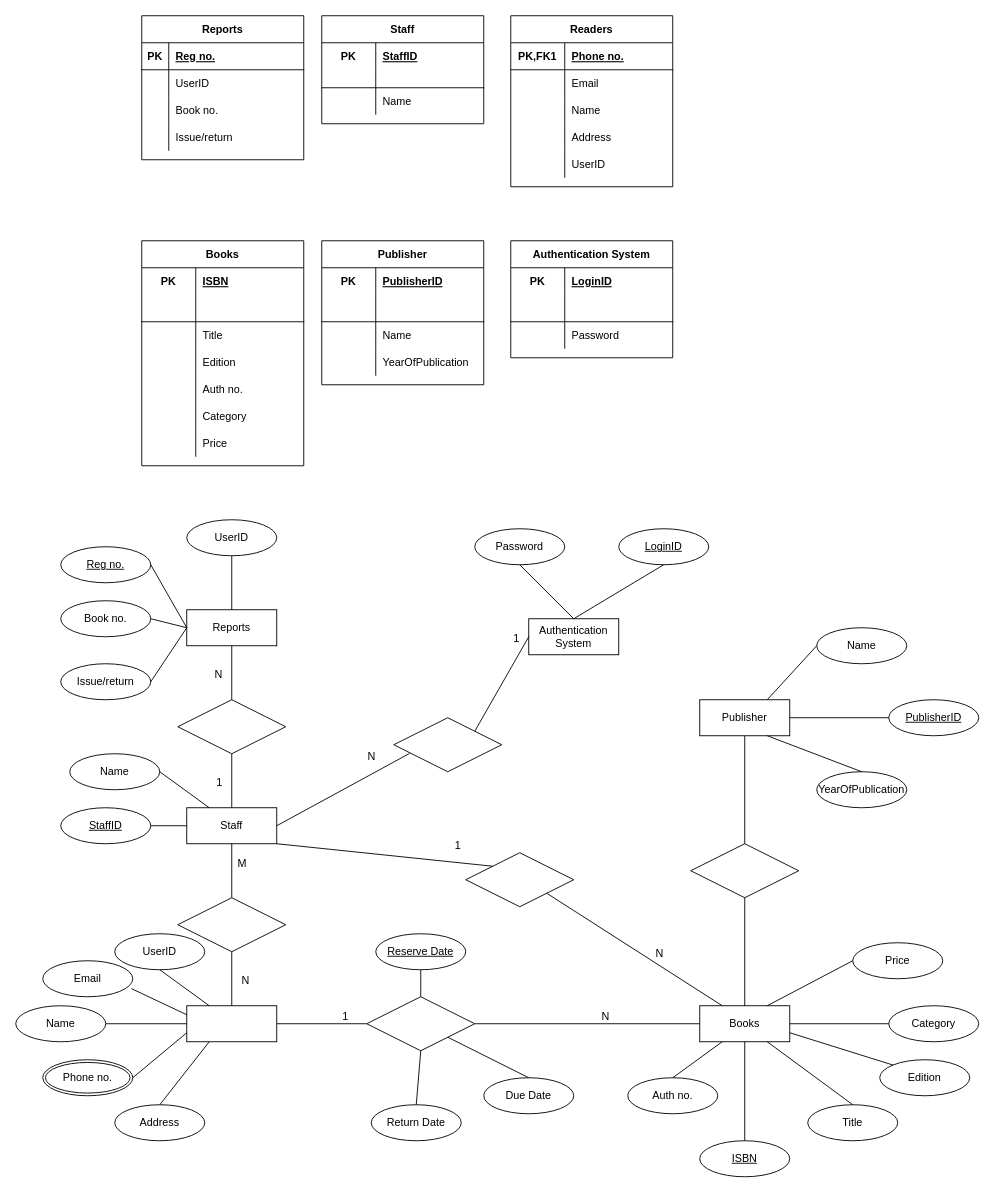
Image size: 995x1193. Some labels were removed from this diagram. Here are the shapes that lost their labels. From the top down, the centre of each, then its label:
point (231, 726): Manages
point (447, 744): Login
point (519, 879): Maintains
point (744, 870): Publishes
point (231, 924): Keeps track of
point (231, 1023): Reader
point (420, 1023): Reserve/Return Date
